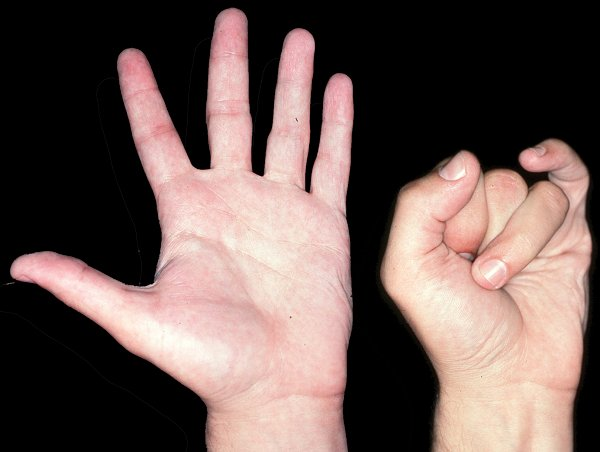finger: (104, 45, 197, 171), (472, 184, 575, 285), (263, 12, 315, 189), (205, 8, 258, 169), (479, 161, 534, 266), (316, 66, 355, 212), (519, 128, 586, 208), (447, 161, 484, 261)
